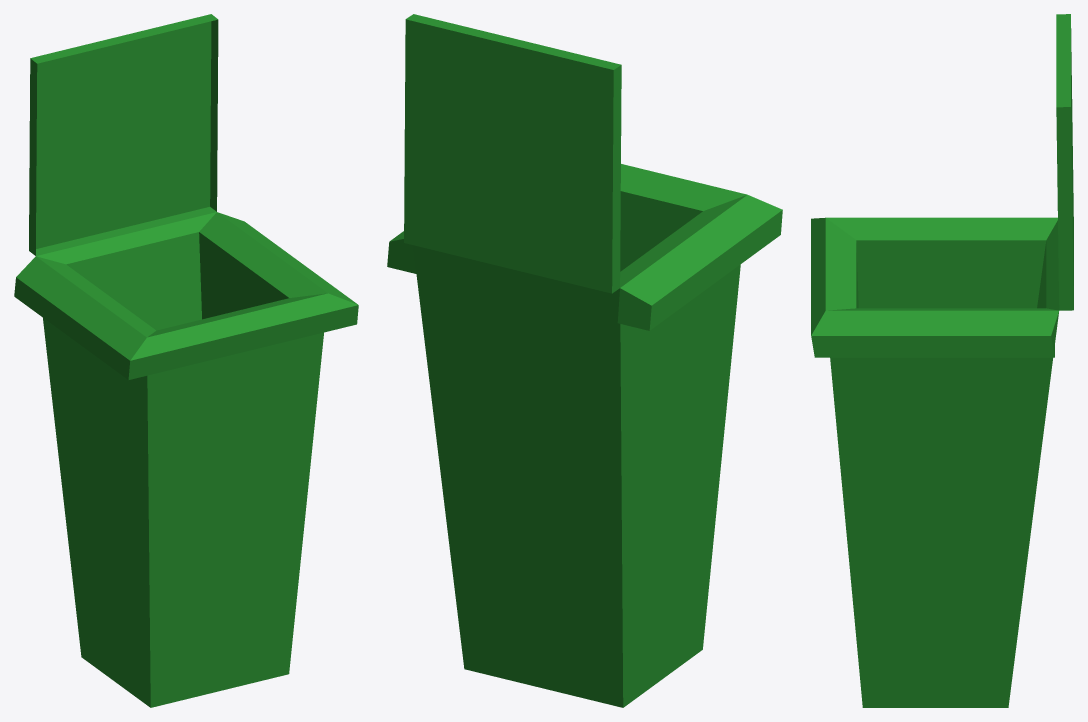
File: Hijau.fbx
3 renders of one model, left to right at view 1: azimuth 30°, elevation 25°; view 2: azimuth 150°, elevation 25°; view 3: azimuth 270°, elevation 25°, orthographic. The views are drawn at different scales.
Parts seen in each view (by area): view 1: Cube; view 2: Cube; view 3: Cube.
Boxes of the visible parts, x1=… form: Cube: x1=14, y1=14, x2=358, y2=707; Cube: x1=387, y1=14, x2=782, y2=707; Cube: x1=811, y1=14, x2=1073, y2=707.
Size of the model in its own units: 323 by 787 by 306.
